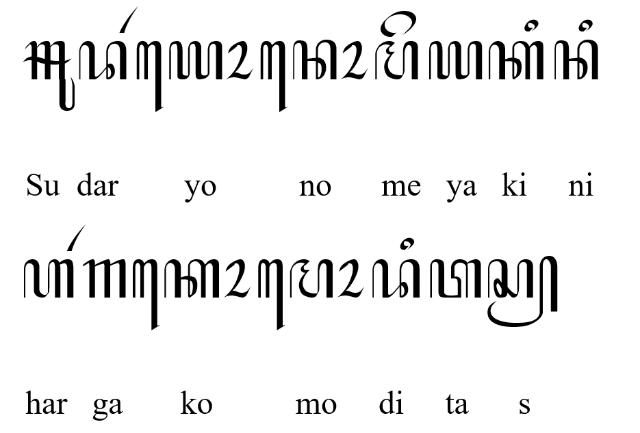-s: (487, 254, 558, 328)
Su: (23, 40, 76, 111)
_r1: (119, 5, 139, 33), (68, 224, 86, 252)
d: (78, 39, 128, 80), (372, 258, 421, 298)
e: (380, 10, 416, 36)
e1: (260, 41, 288, 113), (132, 259, 160, 331), (136, 42, 164, 112), (258, 259, 284, 331)
g: (83, 258, 127, 298)
h: (24, 258, 74, 298)
i: (524, 18, 538, 32), (578, 18, 592, 32), (400, 238, 414, 250)
k: (488, 40, 544, 80), (164, 260, 220, 298)
m: (374, 40, 418, 80), (289, 258, 333, 298)
n: (292, 40, 338, 80), (554, 39, 598, 80)
o: (226, 40, 254, 80), (340, 40, 368, 80), (223, 258, 251, 298), (336, 259, 364, 297)
t: (428, 258, 482, 298)
y: (168, 40, 224, 80), (429, 40, 483, 80)
